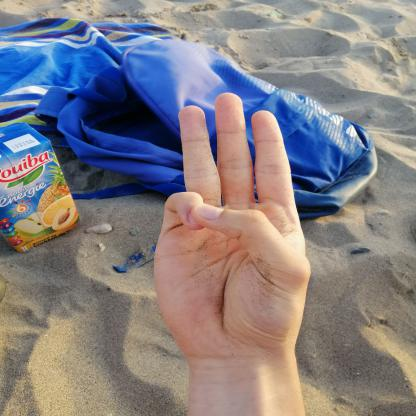THA: (130, 80, 326, 368)
